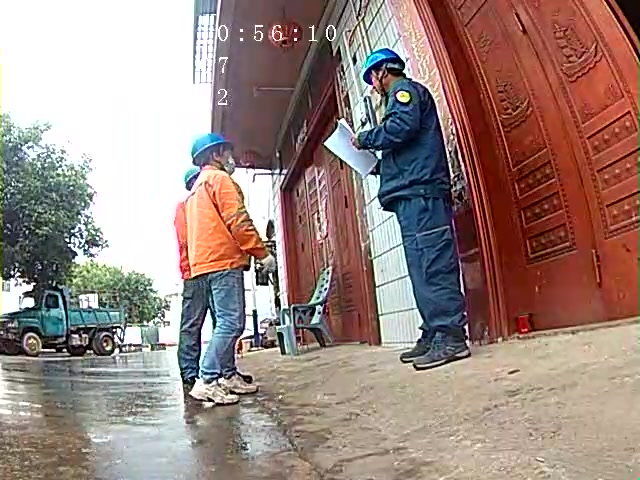downcloth: (204, 273, 247, 379), (177, 275, 210, 379)
downsuit: (387, 196, 473, 336)
halt: (360, 49, 408, 97), (191, 132, 235, 165)
hand: (349, 132, 360, 152)
inear: (206, 147, 224, 168)
outear: (369, 66, 390, 84)
person: (355, 46, 489, 367), (173, 132, 265, 399)
sleeve: (393, 88, 413, 105)
upsuit: (367, 84, 459, 195)
wglove: (257, 254, 275, 271)
yupsuit: (177, 166, 254, 267)
